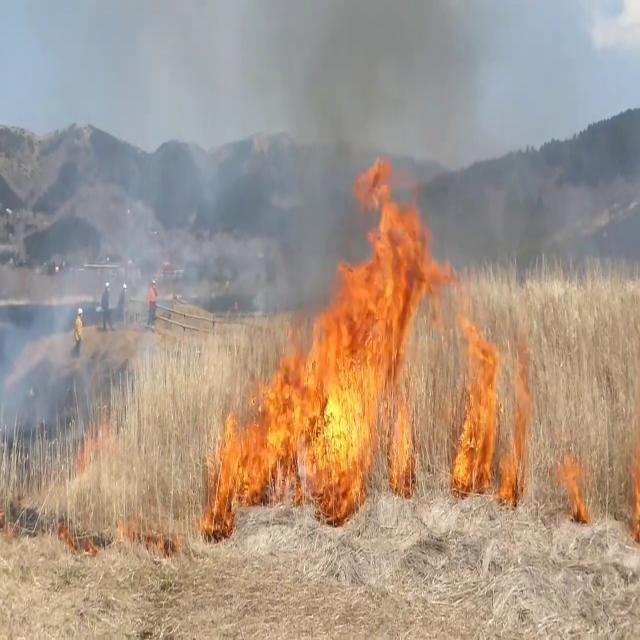Fire: (342, 138, 450, 511), (208, 307, 354, 521), (452, 306, 522, 500), (556, 439, 591, 520)
Smoke: (164, 2, 544, 260)
